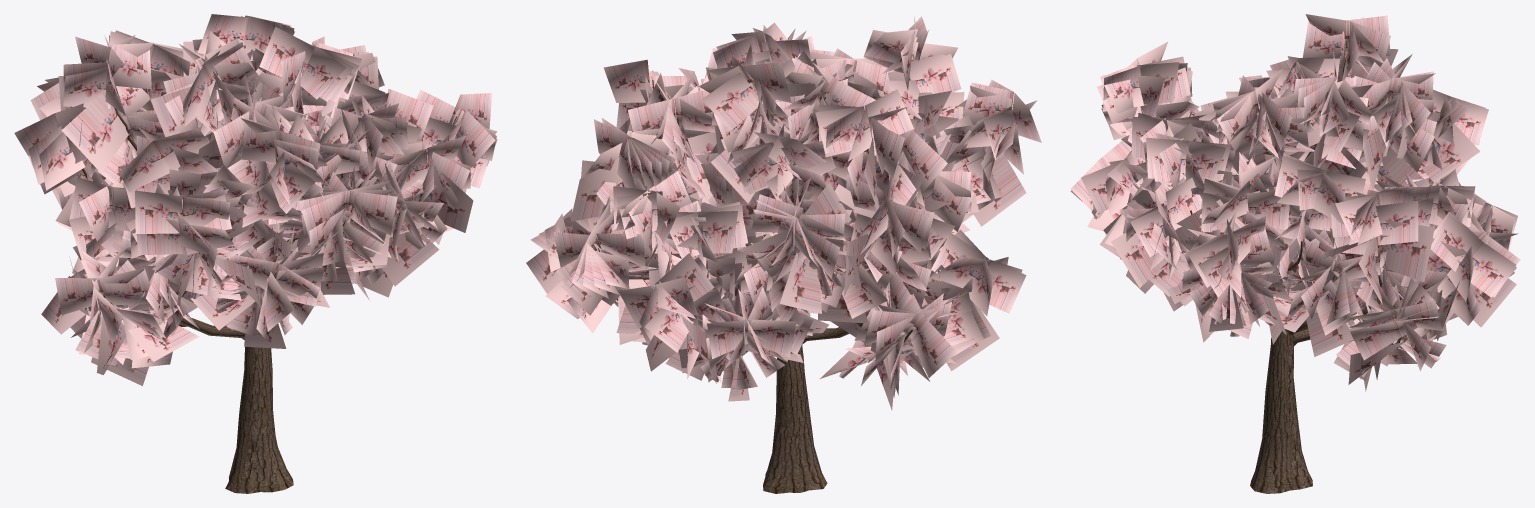
Rendered from sakura_quest_lod1.glb.
3 renders of one model, left to right at view 1: azimuth 30°, elevation 25°; view 2: azimuth 150°, elevation 25°; view 3: azimuth 270°, elevation 25°, orthographic. The views are drawn at different scales.
Visible parts, largest first — view 1: Sakura_Sakura_Mat_0, Sakura_Bark001_2K_JPG_Mat_0; view 2: Sakura_Sakura_Mat_0, Sakura_Bark001_2K_JPG_Mat_0; view 3: Sakura_Sakura_Mat_0, Sakura_Bark001_2K_JPG_Mat_0.
Part boxes in pixels (<box>): Sakura_Sakura_Mat_0: <box>14,14,497,385</box>; Sakura_Bark001_2K_JPG_Mat_0: <box>81,108,456,493</box>; Sakura_Sakura_Mat_0: <box>526,16,1041,410</box>; Sakura_Bark001_2K_JPG_Mat_0: <box>598,78,927,493</box>; Sakura_Sakura_Mat_0: <box>1070,14,1520,391</box>; Sakura_Bark001_2K_JPG_Mat_0: <box>1190,41,1401,493</box>.
Bounding box in the file's own units: 0.4036 × 0.4172 × 0.4016.
Materials: 2 (2 with a texture image).
